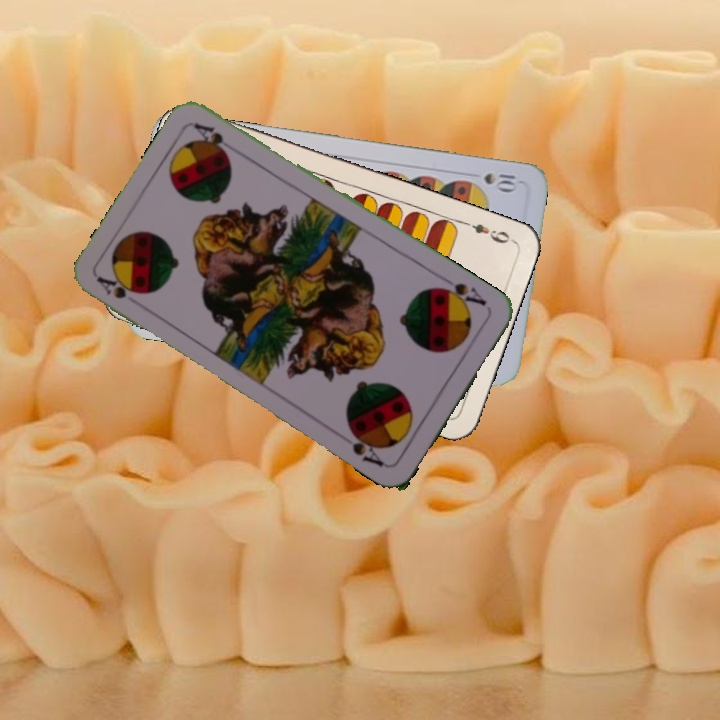E9: (459, 217, 516, 247)
S10: (480, 168, 520, 193)
SA: (433, 272, 490, 312), (93, 272, 143, 302)
